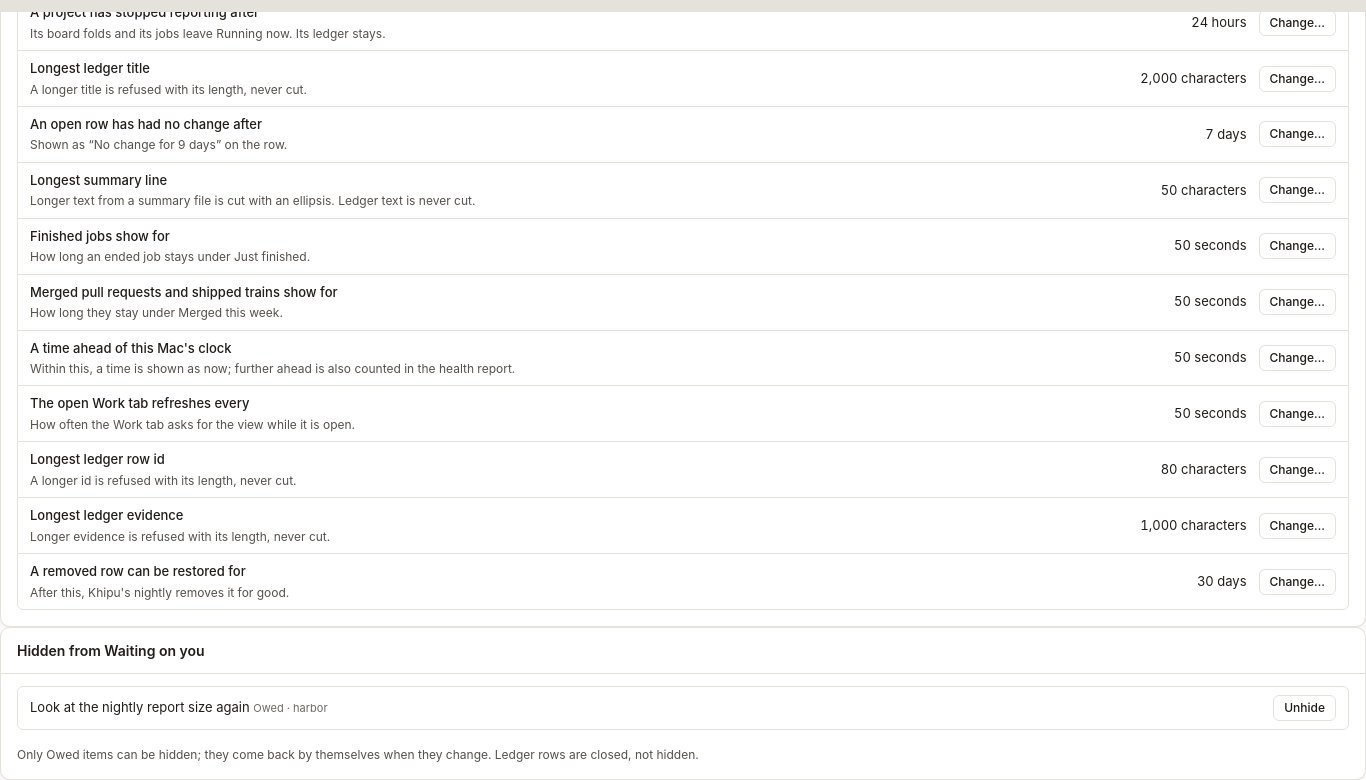
Test: Settings, Work › unhides an Owed item
Expected: the text "Owed · harbor" is shown, x1=253 y1=701 x2=328 y2=715
Click the button with aria-label "Unhide Look at the nightly report size again". click: click(1305, 708)
box: x1=1273 y1=695 x2=1336 y2=721
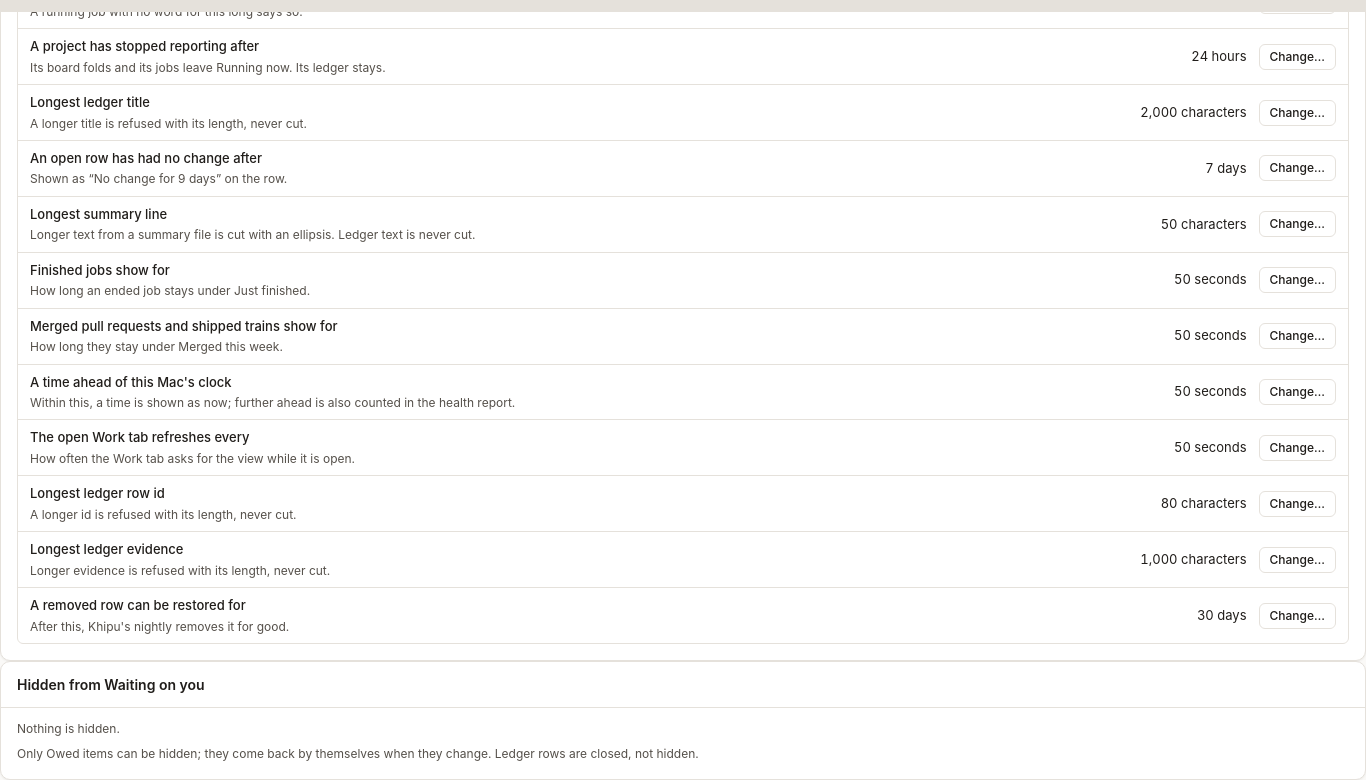
Expected: the text "Nothing is hidden." is shown, x1=17 y1=721 x2=120 y2=736
